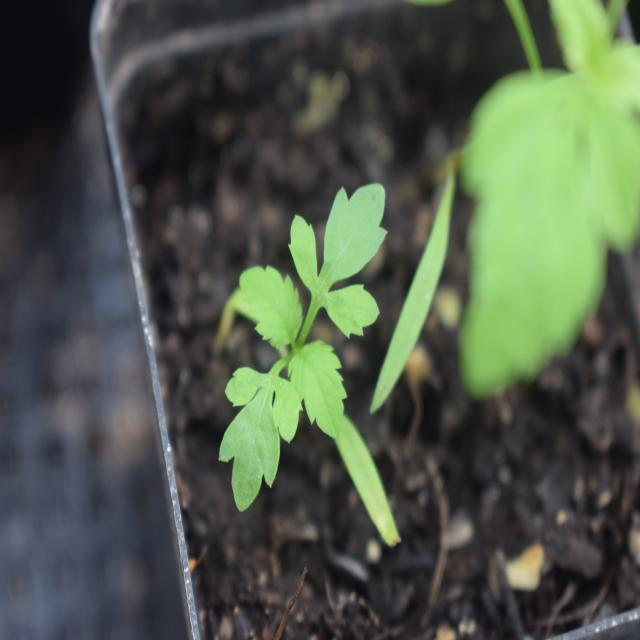Bidens pilosa: (188, 127, 402, 517)
